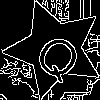Q: (29, 24, 91, 86)
